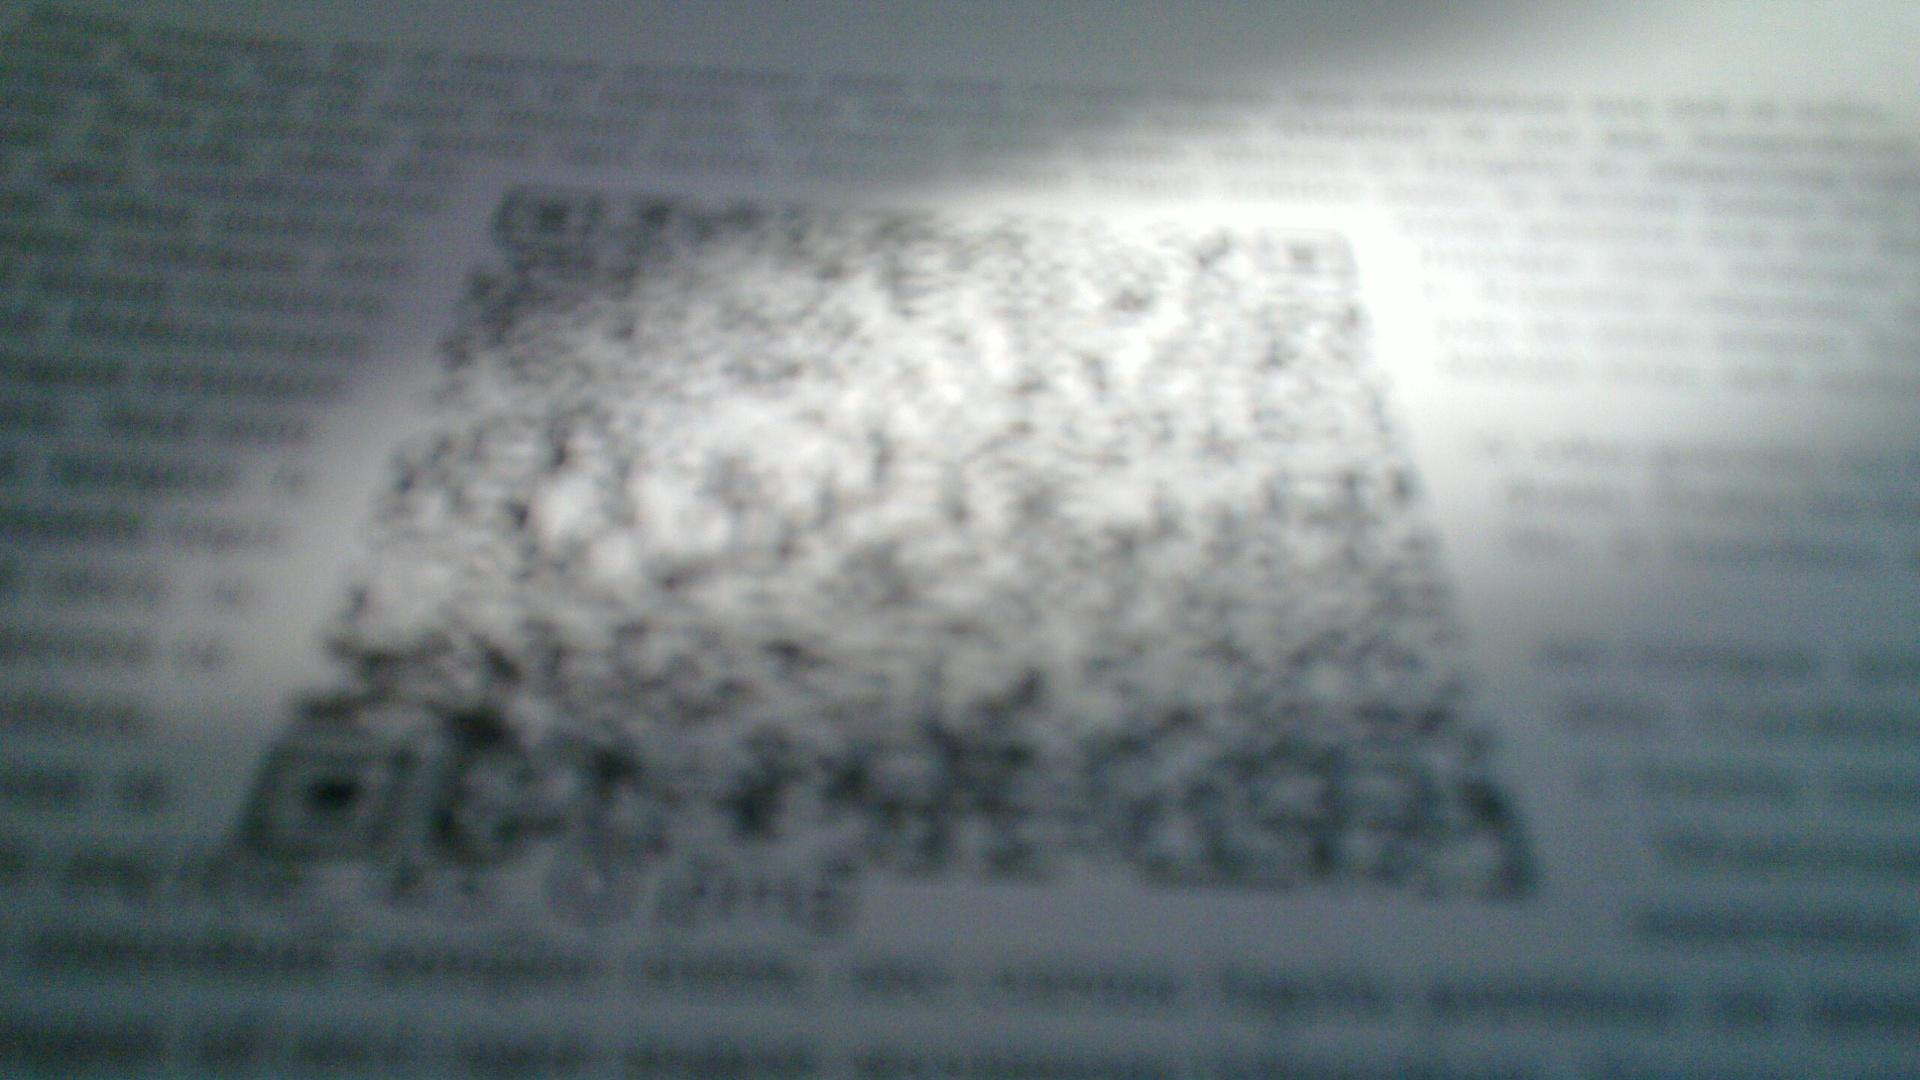Finder pattern: (240, 748, 414, 862), (489, 181, 609, 240), (1261, 215, 1364, 282)
